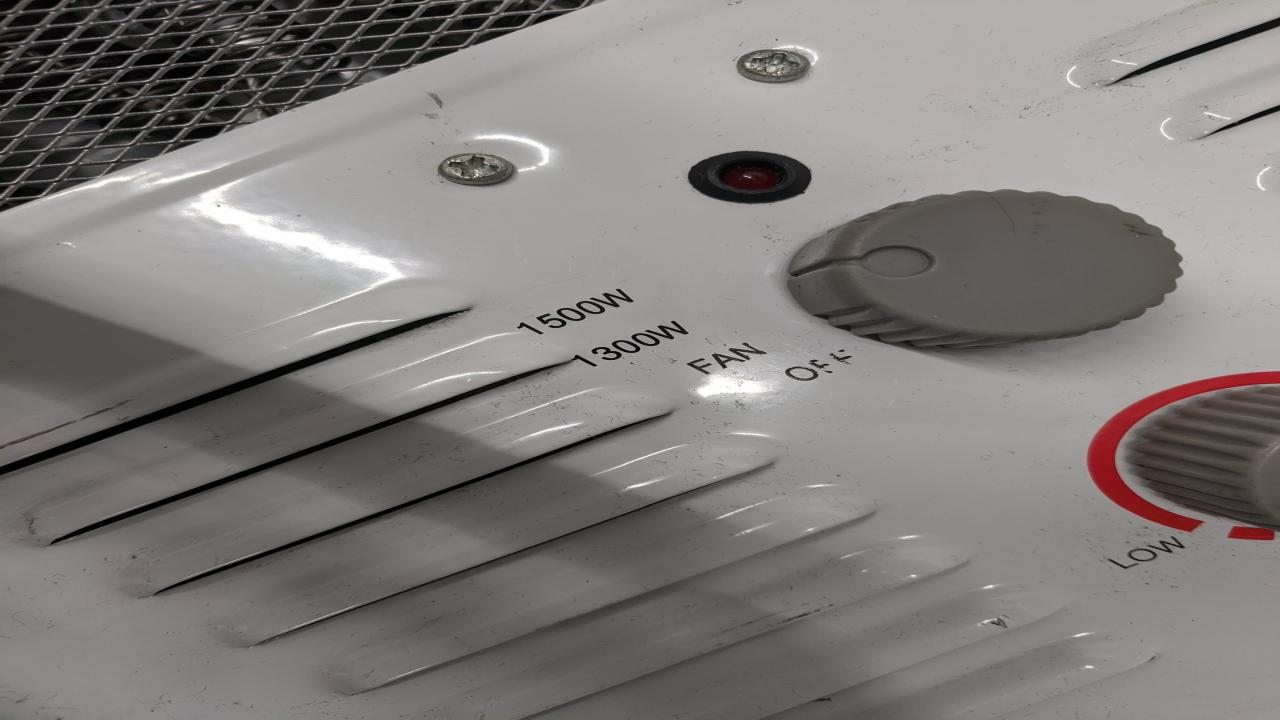CRS: (433, 152, 527, 185), (730, 50, 816, 83)
